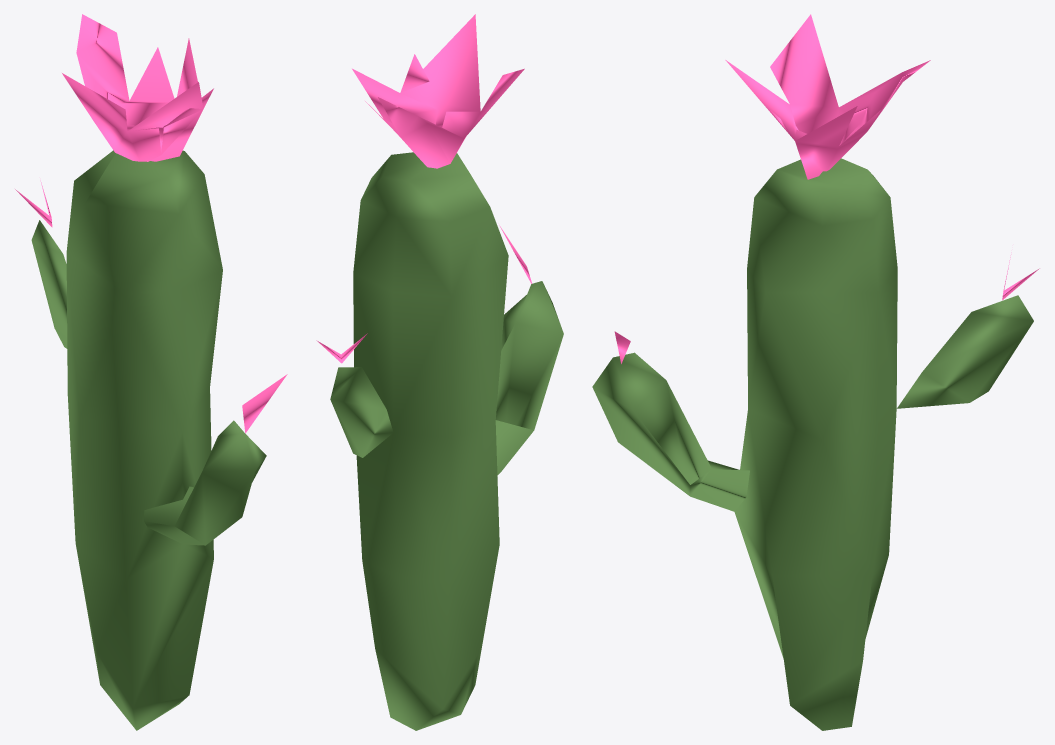
Rendered from CactusFlowers_3_lod.glb.
3 renders of one model, left to right at view 1: azimuth 30°, elevation 25°; view 2: azimuth 150°, elevation 25°; view 3: azimuth 270°, elevation 25°, orthographic.
Visible parts, largest first — view 1: CactusFlowers_3; view 2: CactusFlowers_3; view 3: CactusFlowers_3.
Boxes of the visible parts, <box> form: CactusFlowers_3: <box>15,14,287,730</box>; CactusFlowers_3: <box>316,14,563,730</box>; CactusFlowers_3: <box>592,14,1039,730</box>.
Size of the model in its own units: 39.89 by 166 by 102.
